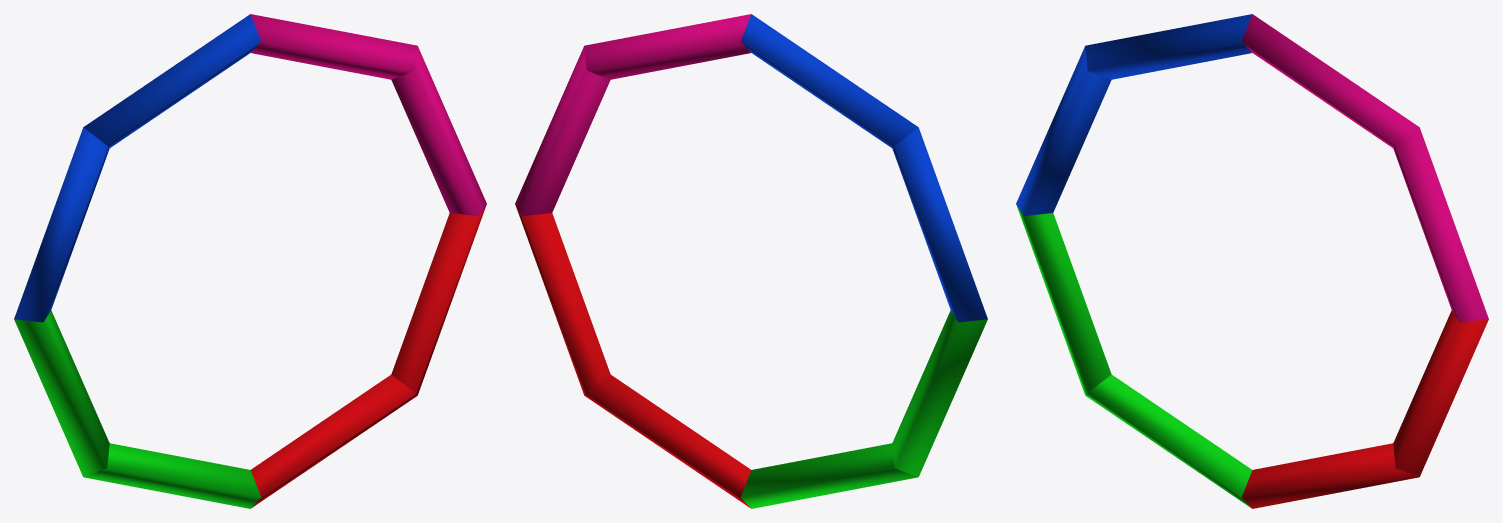
File: ring_collision.OBJ
The picture shows the model from 3 angles, left to right: view 1: azimuth 30°, elevation 25°; view 2: azimuth 150°, elevation 25°; view 3: azimuth 330°, elevation 25°; orthographic projection.
Visible parts, largest first — view 1: ring_collision; view 2: ring_collision; view 3: ring_collision.
Part boxes in pixels (left/top/right/bottom): ring_collision: left=14, top=14, right=486, bottom=508; ring_collision: left=515, top=14, right=987, bottom=508; ring_collision: left=1016, top=14, right=1488, bottom=508.
Size of the model in its own units: 0.1701 by 0.1701 by 0.0135.
